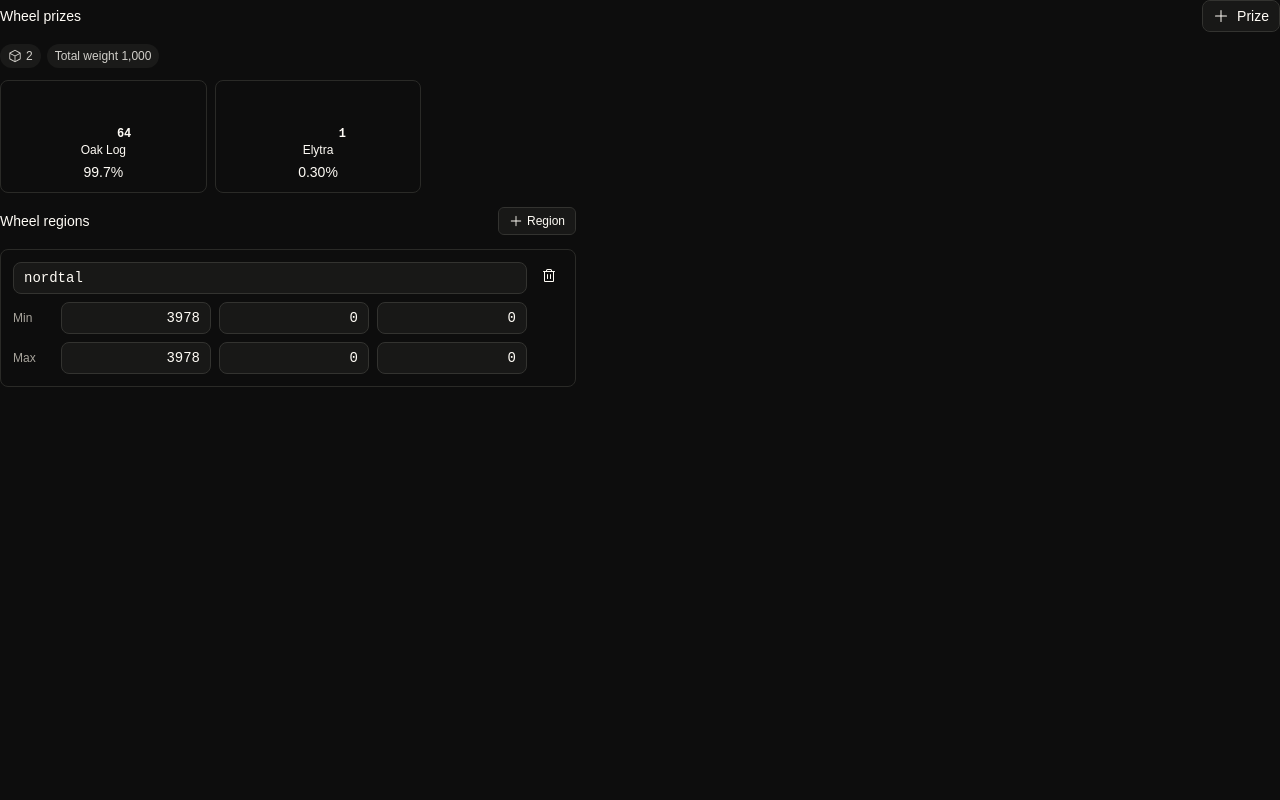
Test case: game group editors › opens the dialog of a prize as soon as it is added
Click the button "Prize": (1241, 16) [1202,0,1279,32]
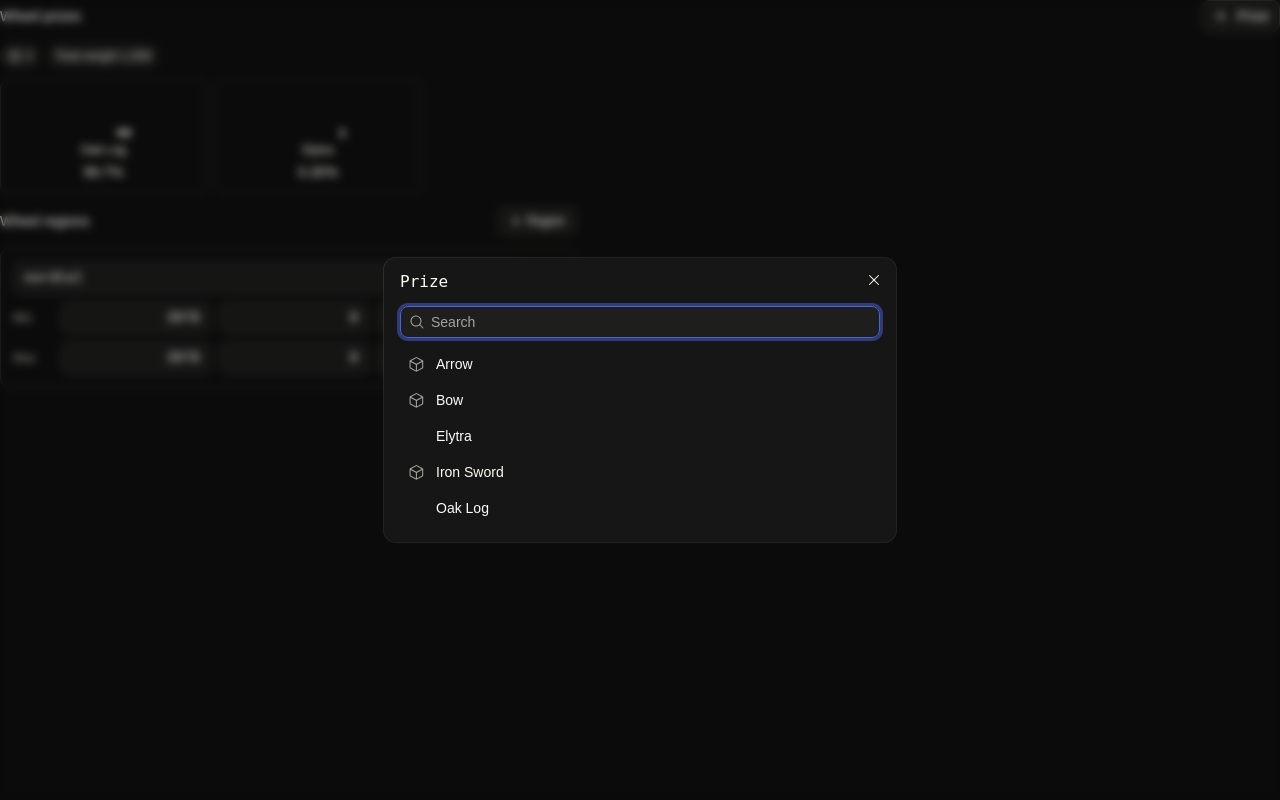
Click the option "Iron Sword": (470, 472) [396,454,884,490]
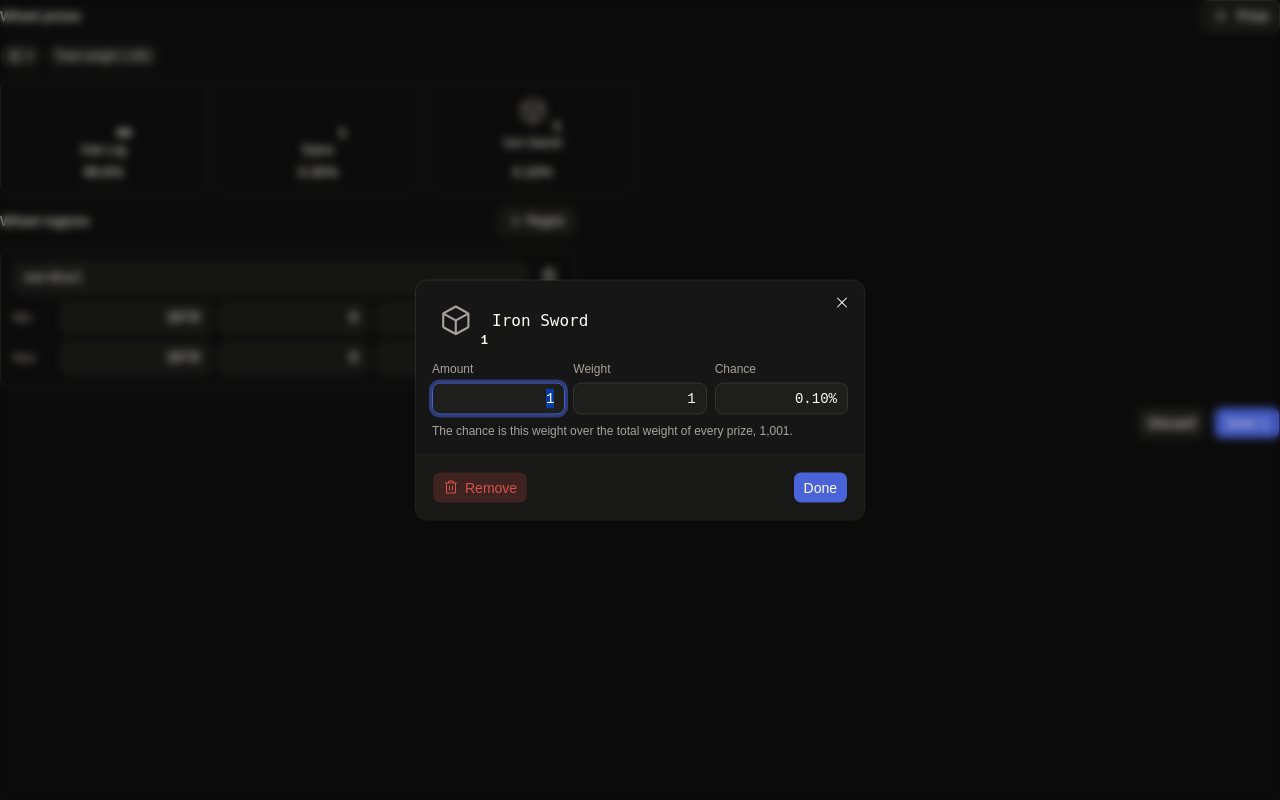
Expected: the field named "Iron Sword Weight" holds "1", [574,384,706,414]
Click the button "Done": (820, 488) [792,472,848,504]
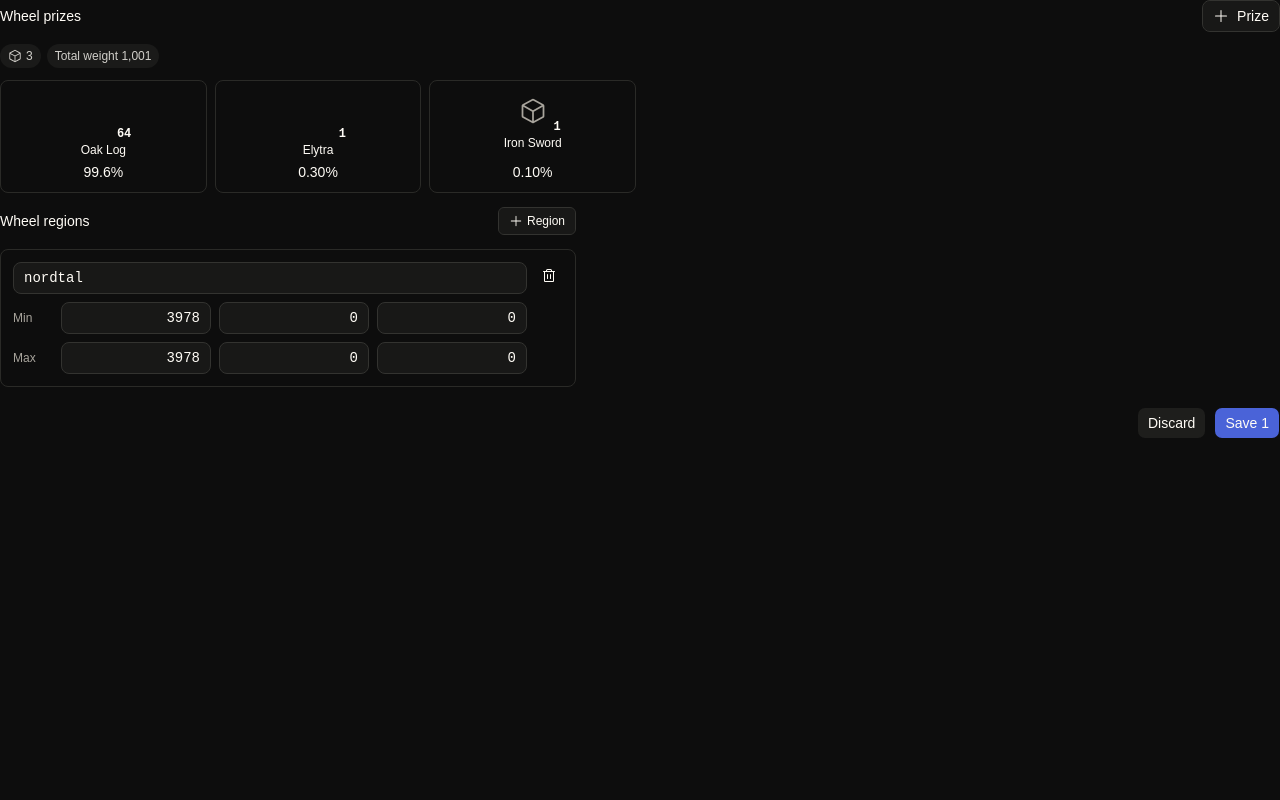
Expected: the button "1 Iron Sword 0.10%" is shown, [429,80,636,193]
Expected: the dialog is gone
